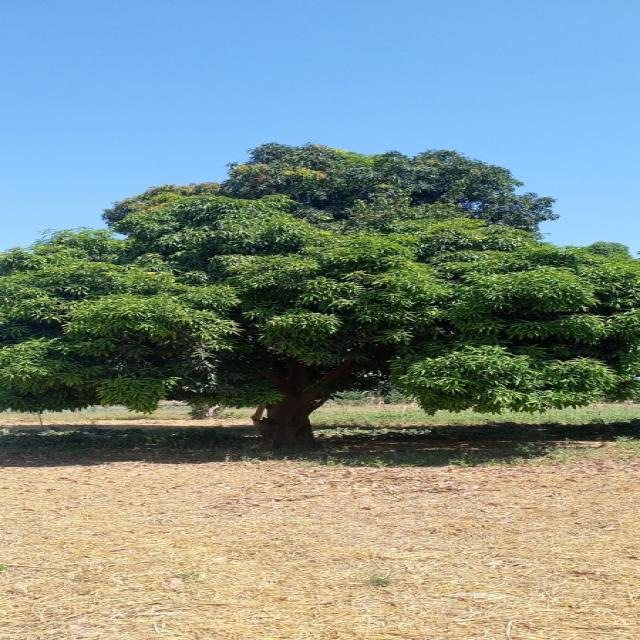Mango-Tree: (0, 136, 640, 437)
